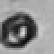correct: (3, 10, 40, 49)
